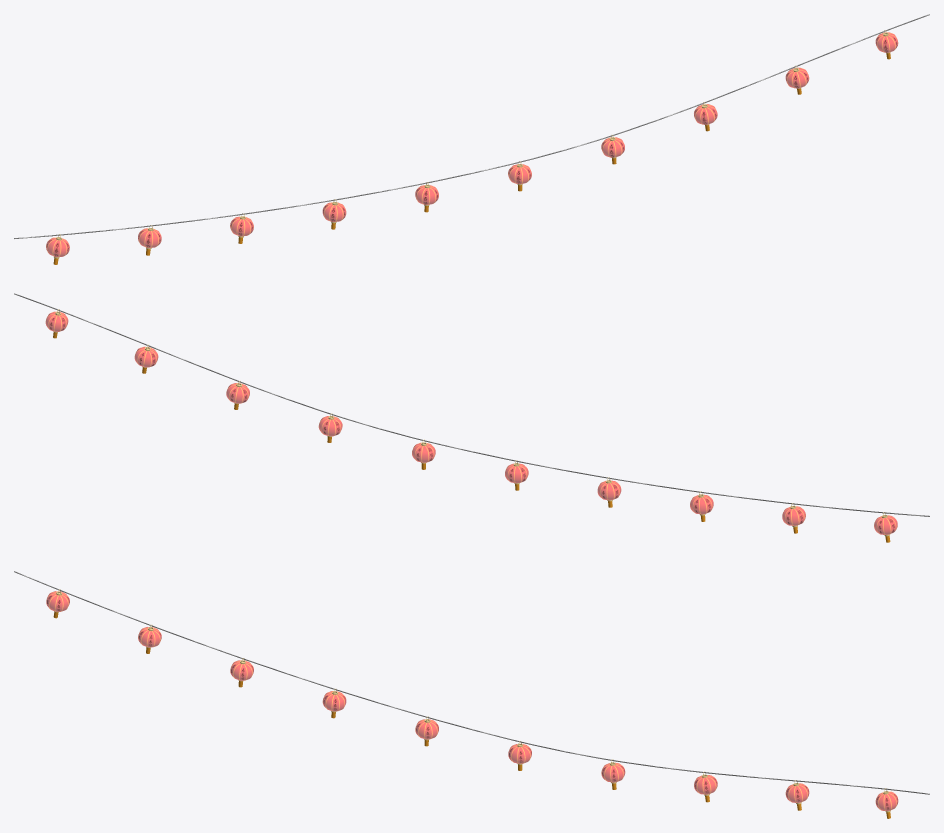
File: SM_lamp_spline_Splines_21.fbx
The picture shows the model from 3 angles, top to bottom: view 1: azimuth 30°, elevation 25°; view 2: azimuth 150°, elevation 25°; view 3: azimuth 330°, elevation 25°; orthographic projection.
Visible parts, largest first — view 1: SM_lamp_spline_Splines_21; view 2: SM_lamp_spline_Splines_21; view 3: SM_lamp_spline_Splines_21.
Boxes of the visible parts, x1=… form: SM_lamp_spline_Splines_21: x1=14, y1=14, x2=929, y2=264; SM_lamp_spline_Splines_21: x1=14, y1=293, x2=929, y2=542; SM_lamp_spline_Splines_21: x1=14, y1=571, x2=929, y2=818.
Size of the model in its own units: 2476 by 56.63 by 197.
